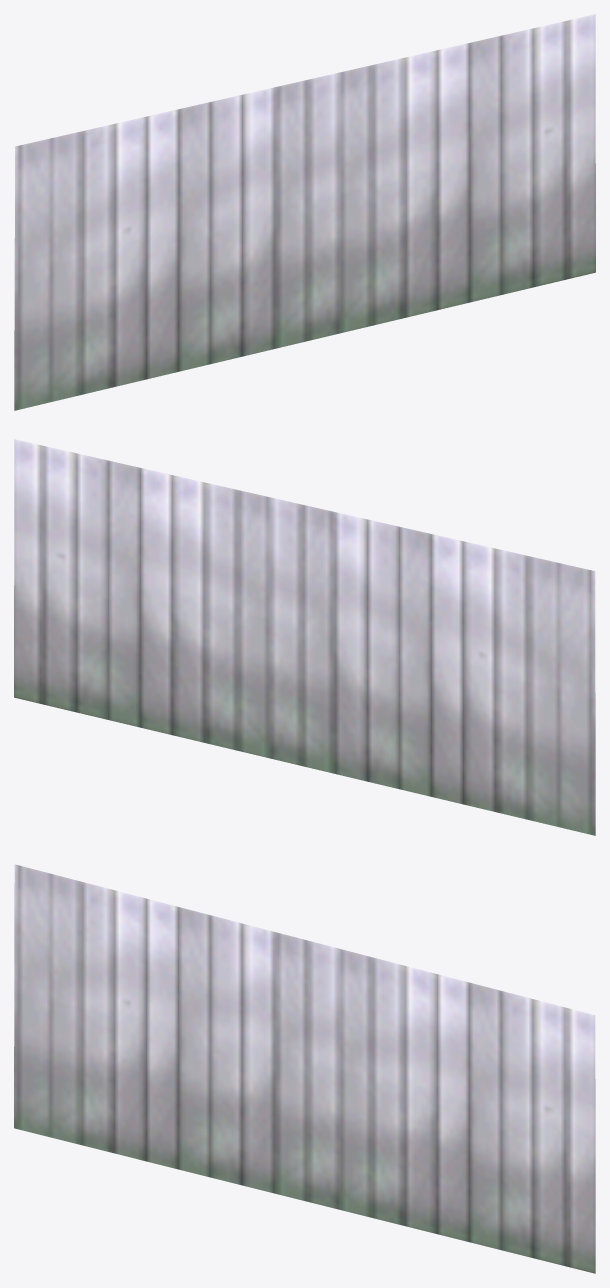
Rendered from wall03.glb.
3 renders of one model, top to bottom at view 1: azimuth 30°, elevation 25°; view 2: azimuth 150°, elevation 25°; view 3: azimuth 330°, elevation 25°, orthographic.
Parts seen in each view (by area): view 1: wall03; view 2: wall03; view 3: wall03.
Boxes of the visible parts, left/top/right/bottom form: wall03: left=14, top=14, right=595, bottom=410; wall03: left=14, top=439, right=595, bottom=835; wall03: left=14, top=864, right=595, bottom=1273.
Bounding box in the file's own units: 689 × 303 × 0.8538.
1 material, 1 textured.
